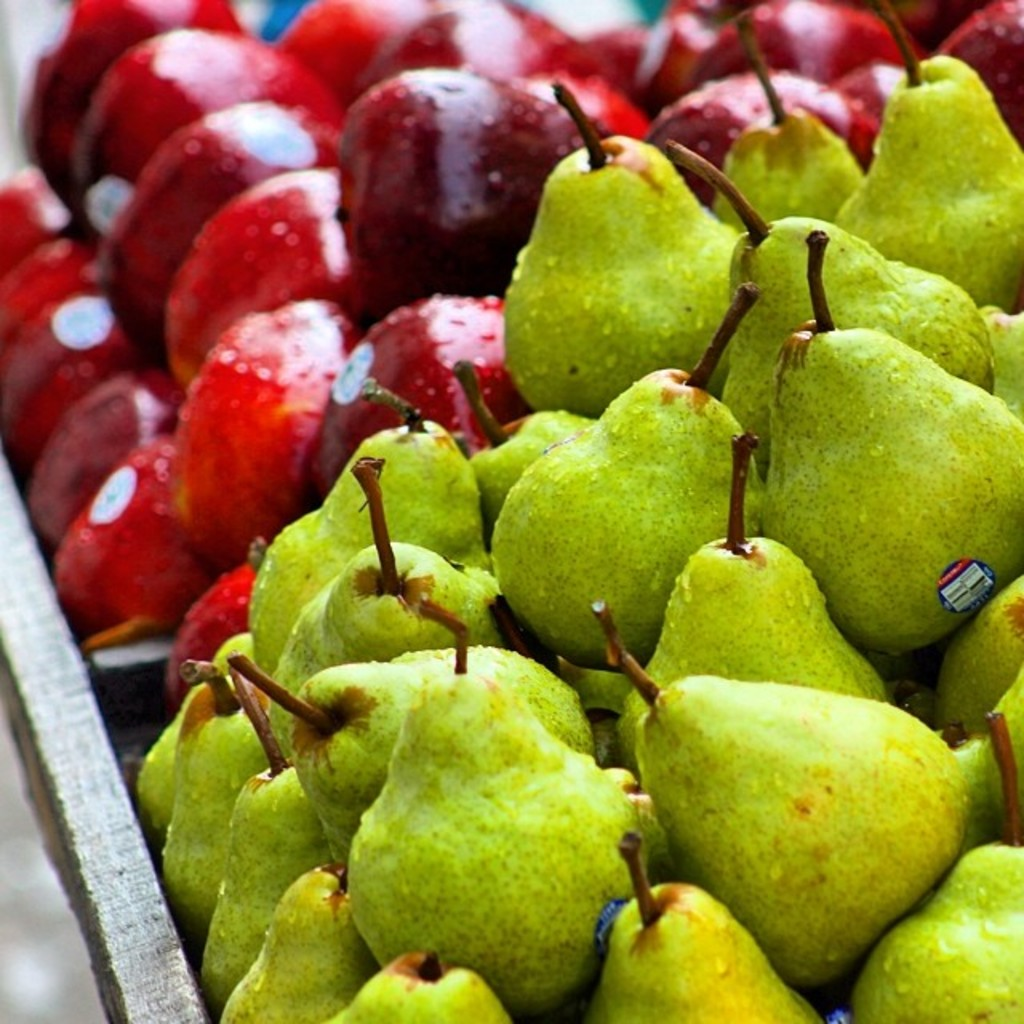Apple: (0, 0, 1022, 705), (638, 675, 999, 993)
